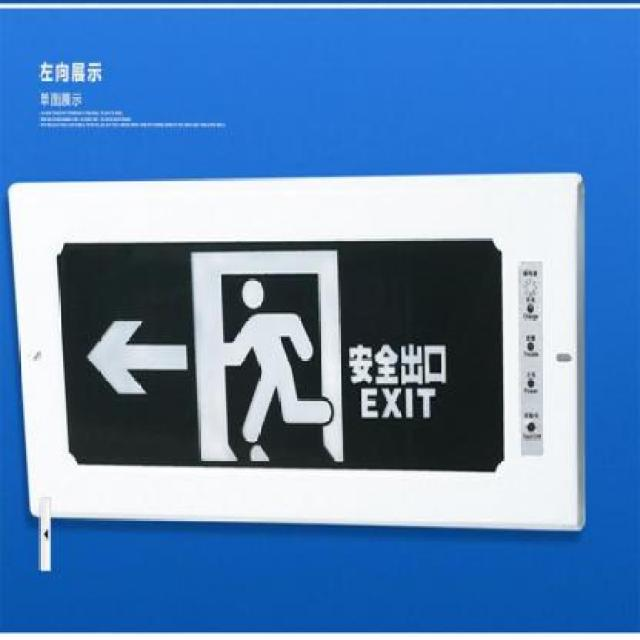exit_sign: (6, 174, 602, 553)
